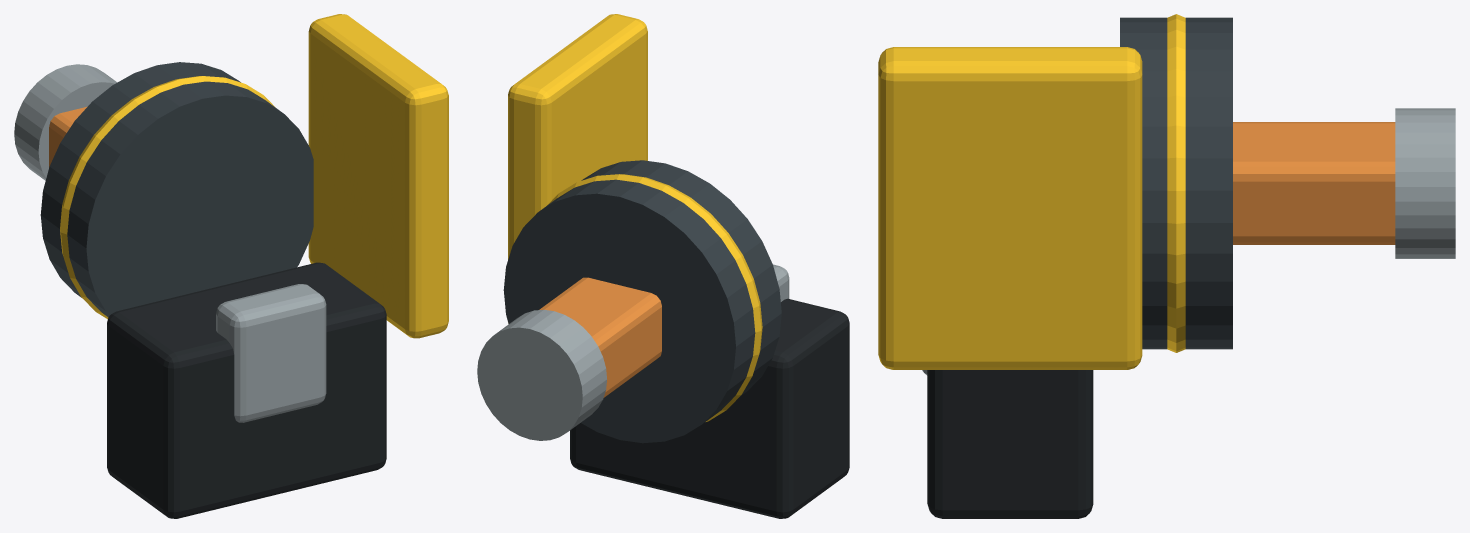
File: zipline_variant_b.glb
3 renders of one model, left to right at view 1: azimuth 30°, elevation 25°; view 2: azimuth 150°, elevation 25°; view 3: azimuth 270°, elevation 25°, orthographic. The views are drawn at different scales.
Visible parts, largest first — view 1: Cable spool, Grip handle, Reinforced side armor, Trigger guard, Attachment eye, Spool rim, Cable guide; view 2: Cable spool, Grip handle, Reinforced side armor, Attachment eye, Cable guide, Spool rim; view 3: Reinforced side armor, Cable spool, Grip handle, Cable guide, Attachment eye, Spool rim.
Part boxes in pixels (<box>): Cable spool: <box>40,62,313,317</box>; Grip handle: <box>107,262,386,518</box>; Reinforced side armor: <box>308,14,448,338</box>; Trigger guard: <box>216,284,326,422</box>; Attachment eye: <box>14,64,117,180</box>; Spool rim: <box>60,76,275,319</box>; Cable guide: <box>49,106,87,167</box>; Cable spool: <box>503,160,781,443</box>; Grip handle: <box>570,298,849,518</box>; Reinforced side armor: <box>508,14,647,259</box>; Attachment eye: <box>477,309,607,440</box>; Cable guide: <box>539,277,661,397</box>; Spool rim: <box>547,174,762,421</box>; Reinforced side armor: <box>878,47,1142,369</box>; Cable spool: <box>1120,17,1232,349</box>; Grip handle: <box>927,370,1093,518</box>; Cable guide: <box>1233,122,1395,244</box>; Attachment eye: <box>1395,108,1455,258</box>; Spool rim: <box>1167,14,1185,352</box>.
Size of what is drawn, in the model's own units: 0.515 by 0.705 by 0.765.
